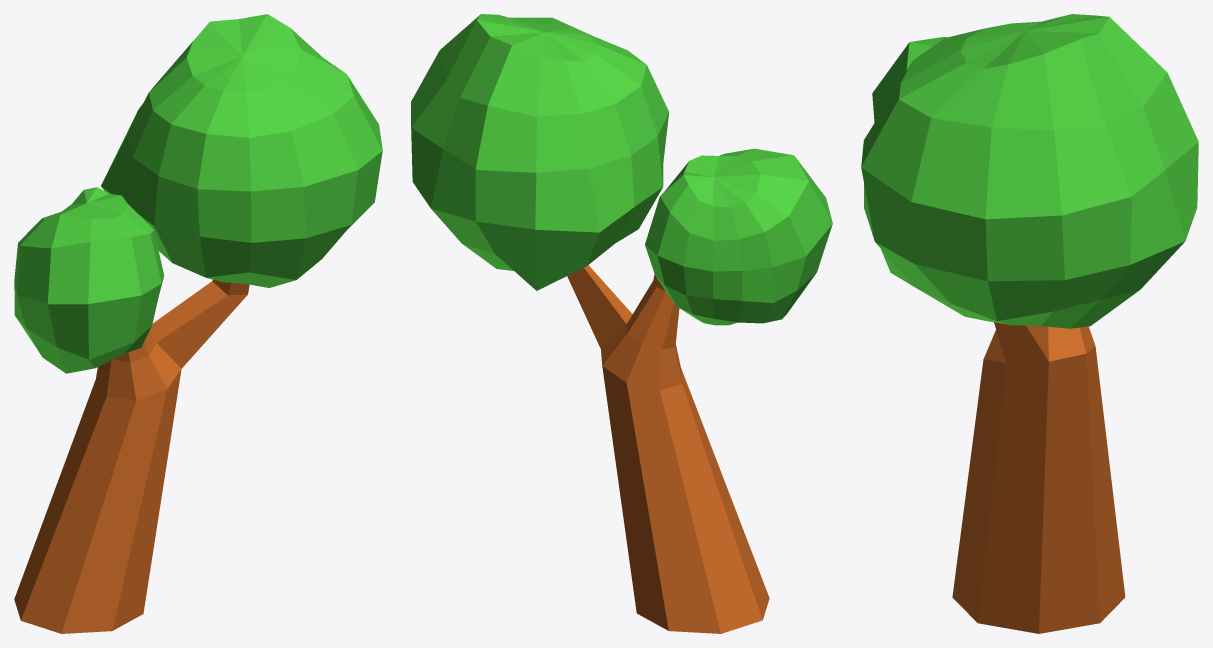
File: tree1.fbx
The picture shows the model from 3 angles, left to right: view 1: azimuth 30°, elevation 25°; view 2: azimuth 150°, elevation 25°; view 3: azimuth 270°, elevation 25°; orthographic projection. The views are drawn at different scales.
Parts seen in each view (by area): view 1: Cone.002; view 2: Cone.002; view 3: Cone.002.
Part boxes in pixels (x1,y1,x2,y2): Cone.002: [14, 14, 382, 633]; Cone.002: [411, 14, 832, 633]; Cone.002: [861, 14, 1198, 633].
Size of the model in its own units: 684 by 962 by 429.
